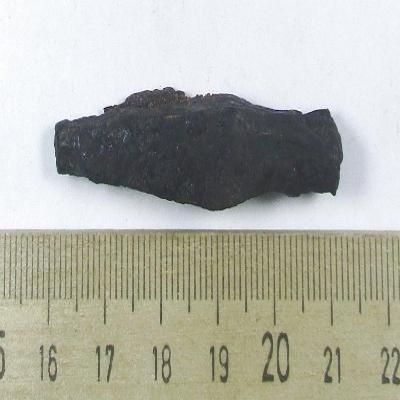archeology: (53, 88, 344, 213)
